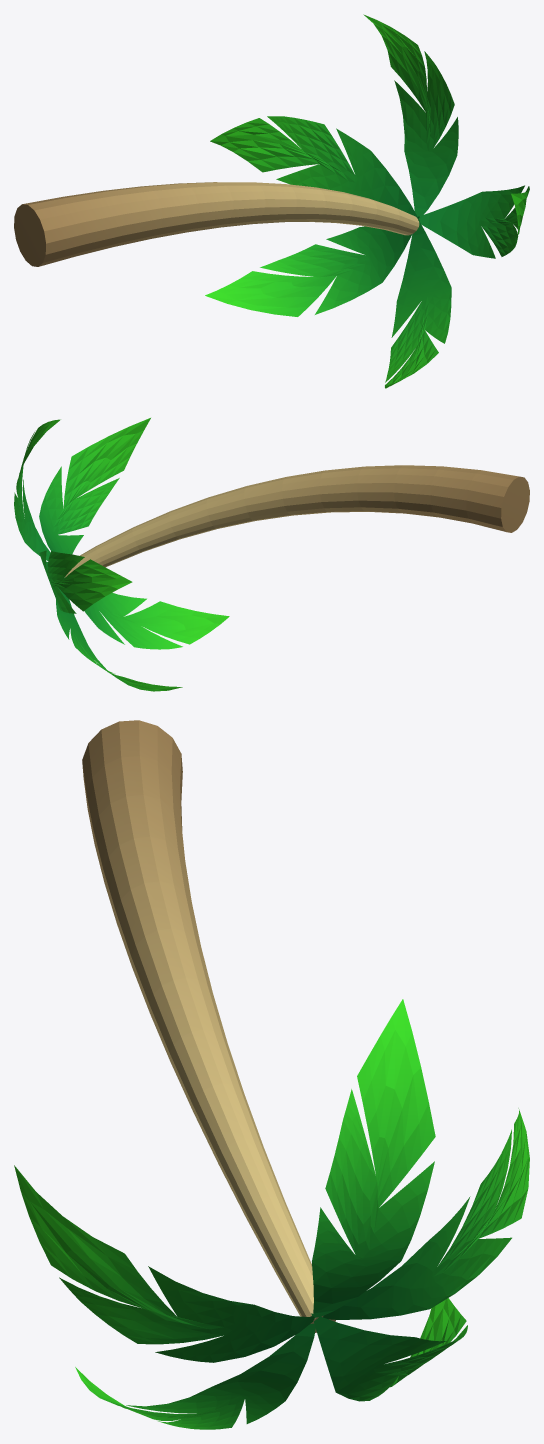
File: palm_tree.FBX
3 views of the same model, one above another, from view 1: azimuth 30°, elevation 25°; view 2: azimuth 150°, elevation 25°; view 3: azimuth 270°, elevation 25° (orthographic). The views are drawn at different scales.
Visible parts, largest first — view 1: Frond01, Frond01.001; view 2: Frond01.001, Frond01; view 3: Frond01, Frond01.001.
Boxes of the visible parts, <box> form: Frond01: <box>205,14,529,388</box>; Frond01.001: <box>14,182,419,266</box>; Frond01.001: <box>65,465,529,577</box>; Frond01: <box>14,418,229,691</box>; Frond01: <box>14,999,529,1429</box>; Frond01.001: <box>82,720,335,1332</box>.
Size of the model in its own units: 10000 by 5666 by 5693.
Materials: 1 (1 with a texture image).
